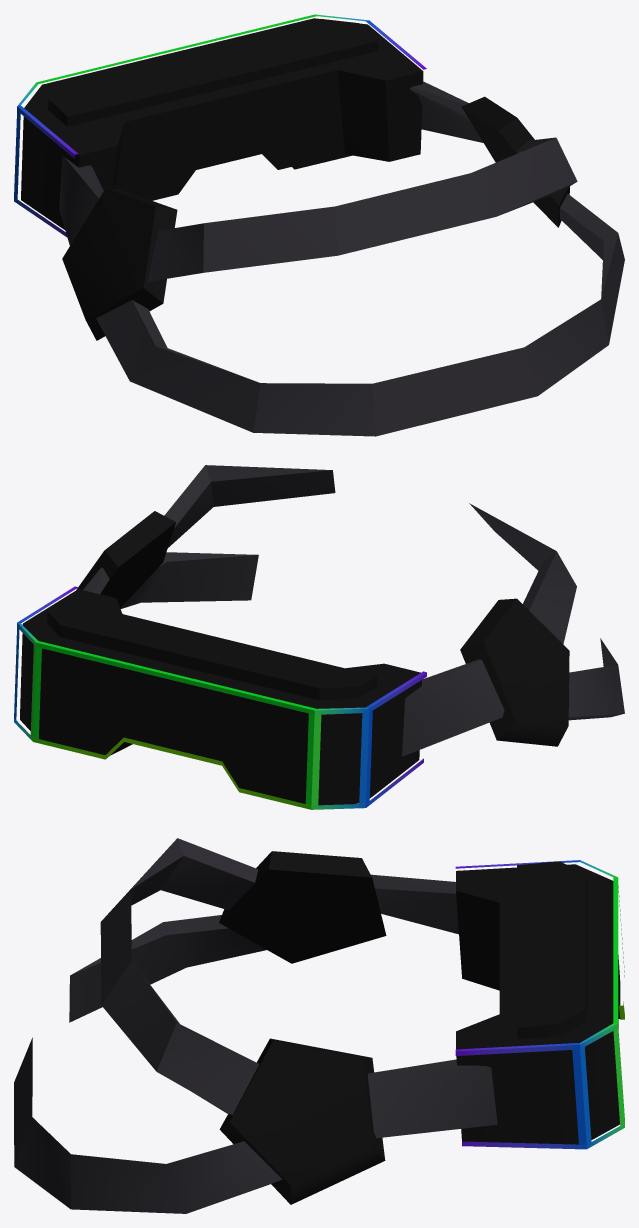
File: hat_nukezoneglasses.glb
3 views of the same model, one above another, from view 1: azimuth 30°, elevation 25°; view 2: azimuth 150°, elevation 25°; view 3: azimuth 270°, elevation 25° (orthographic). The views are drawn at different scales.
Visible parts, largest first — view 1: hat_nukezoneglasses; view 2: hat_nukezoneglasses; view 3: hat_nukezoneglasses.
Part boxes in pixels (bbox=[...]): hat_nukezoneglasses: bbox=[14, 14, 624, 436]; hat_nukezoneglasses: bbox=[14, 465, 624, 809]; hat_nukezoneglasses: bbox=[14, 838, 624, 1213].
Bounding box in the file's own units: 0.5071 × 0.1825 × 0.5037.
